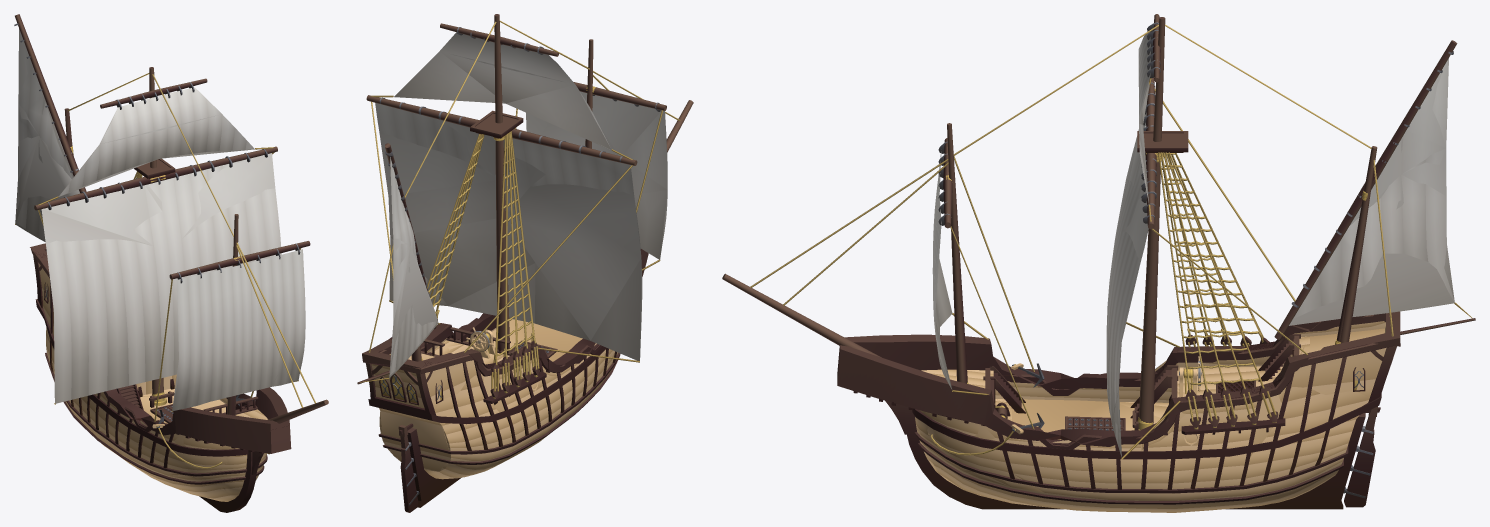
The model's file is Ship Santa Maria.fbx.
The picture shows the model from 3 angles, left to right: view 1: azimuth 30°, elevation 25°; view 2: azimuth 150°, elevation 25°; view 3: azimuth 270°, elevation 25°; orthographic projection. The views are drawn at different scales.
Visible parts, largest first — view 1: Ship Santa Maria high, Ship Santa Maria very low, Ship Santa Maria low; view 2: Ship Santa Maria very low, Ship Santa Maria high, Ship Santa Maria low; view 3: Ship Santa Maria high, Ship Santa Maria very low, Ship Santa Maria low.
Boxes of the visible parts, x1=… form: Ship Santa Maria high: x1=14, y1=23, x2=315, y2=512; Ship Santa Maria very low: x1=15, y1=28, x2=291, y2=498; Ship Santa Maria low: x1=15, y1=14, x2=328, y2=510; Ship Santa Maria very low: x1=362, y1=32, x2=667, y2=471; Ship Santa Maria high: x1=357, y1=20, x2=680, y2=512; Ship Santa Maria low: x1=366, y1=14, x2=693, y2=505; Ship Santa Maria high: x1=750, y1=22, x2=1475, y2=512; Ship Santa Maria very low: x1=837, y1=39, x2=1454, y2=512; Ship Santa Maria low: x1=722, y1=14, x2=1457, y2=512.
Size of the model in its own units: 2608 by 4037 by 5629.
2 materials, 2 textured.
